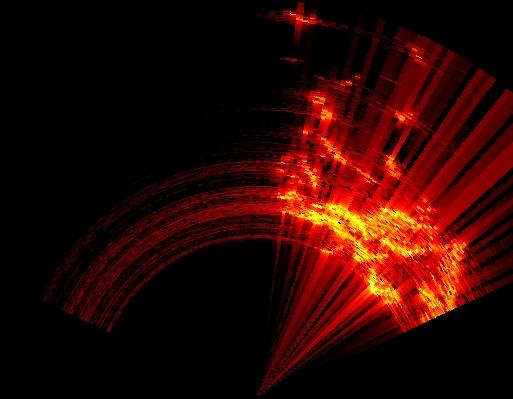shipwreck: (274, 92, 466, 329)
